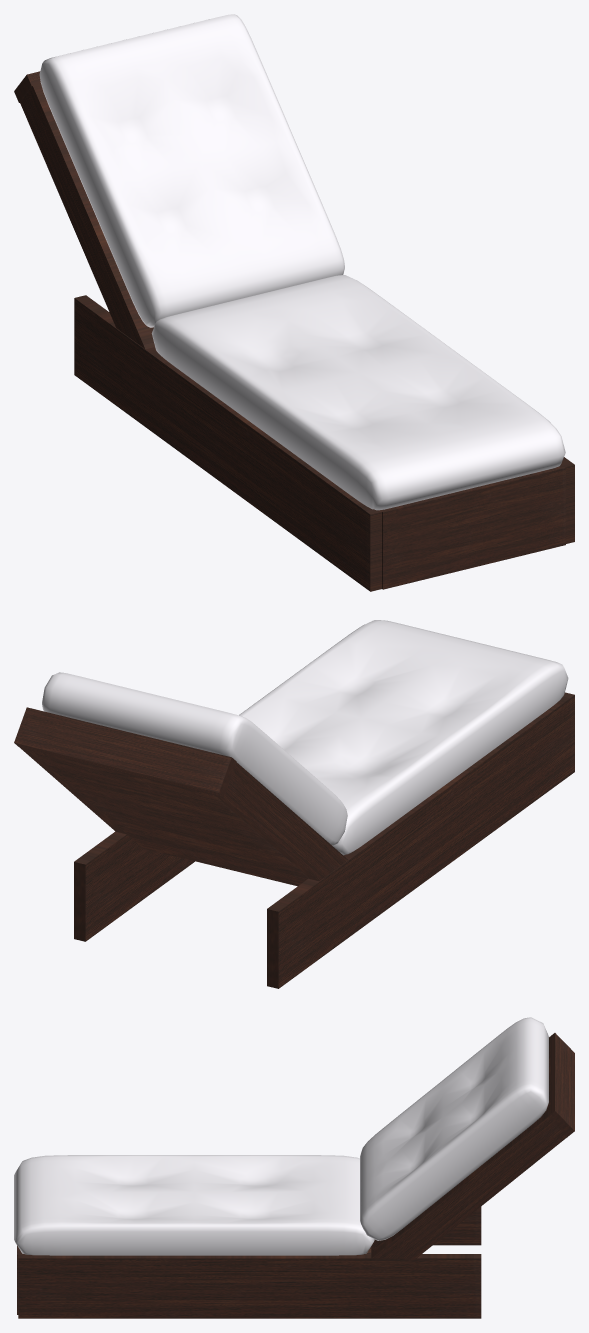
Rendered from Sofa.fbx.
The picture shows the model from 3 angles, top to bottom: view 1: azimuth 30°, elevation 25°; view 2: azimuth 150°, elevation 25°; view 3: azimuth 270°, elevation 25°; orthographic projection. The views are drawn at different scales.
Visible parts, largest first — view 1: Sofa; view 2: Sofa; view 3: Sofa.
Boxes of the visible parts, x1,y1,x2,y2 form: Sofa: (14,14,574,591); Sofa: (14,620,574,988); Sofa: (14,1017,574,1318).
Size of the model in its own units: 0.9194 by 1.25 by 2.79.
